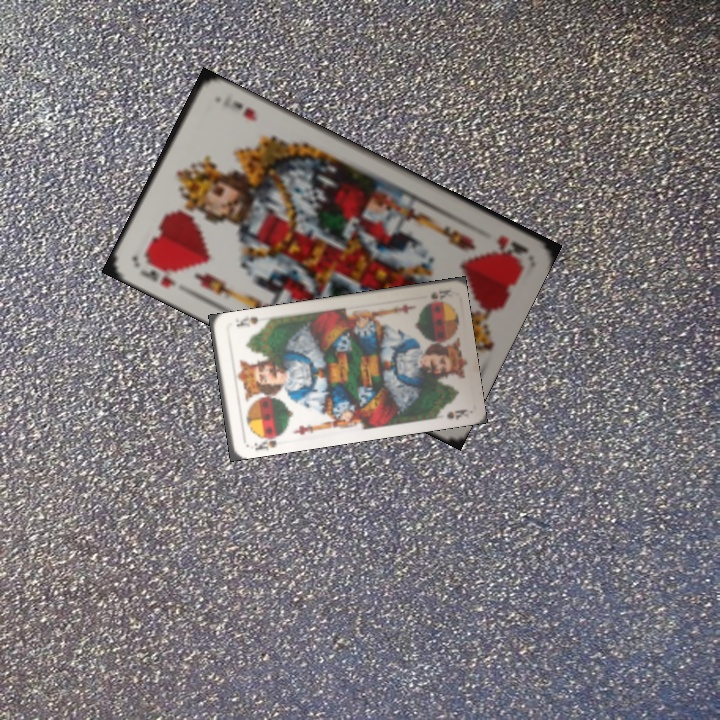HK: (493, 231, 531, 263), (135, 266, 180, 290)
SK: (250, 430, 282, 453), (427, 286, 452, 303)
